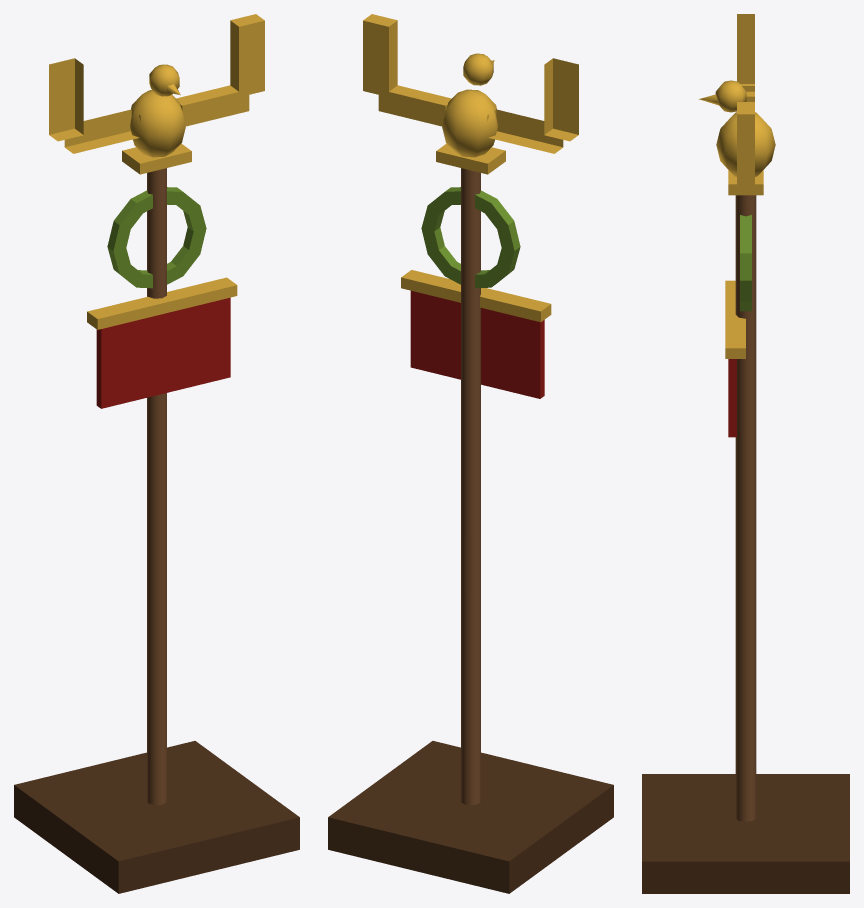
Rendered from im_aquila.glb.
3 views of the same model, side by side, from view 1: azimuth 30°, elevation 25°; view 2: azimuth 150°, elevation 25°; view 3: azimuth 270°, elevation 25° (orthographic).
Parts seen in each view (by area): view 1: im_aquila; view 2: im_aquila; view 3: im_aquila.
Boxes of the visible parts, x1,y1,x2,y2 form: im_aquila: (14, 14, 299, 893); im_aquila: (328, 14, 613, 893); im_aquila: (642, 14, 849, 893).
Bounding box in the file's own units: 0.8 × 2.92 × 0.7.
